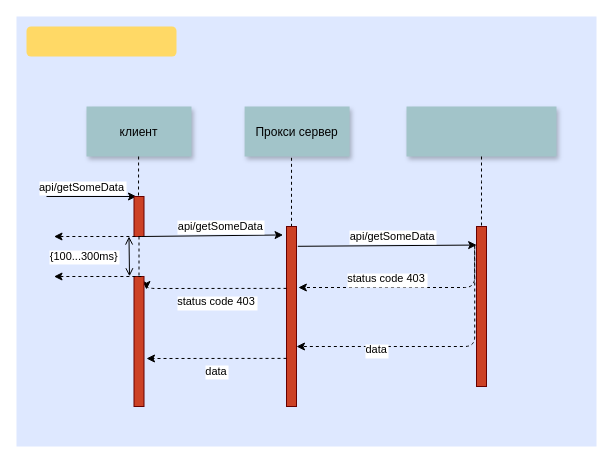
Image size: 613x463. Some labels were removed from this diagram. The shapes that lost their labels are listed below. From the top down, each one's centre as x and y in pixels, then its label:
the point at 101,41: Получение данных
the point at 482,132: Api сервер
